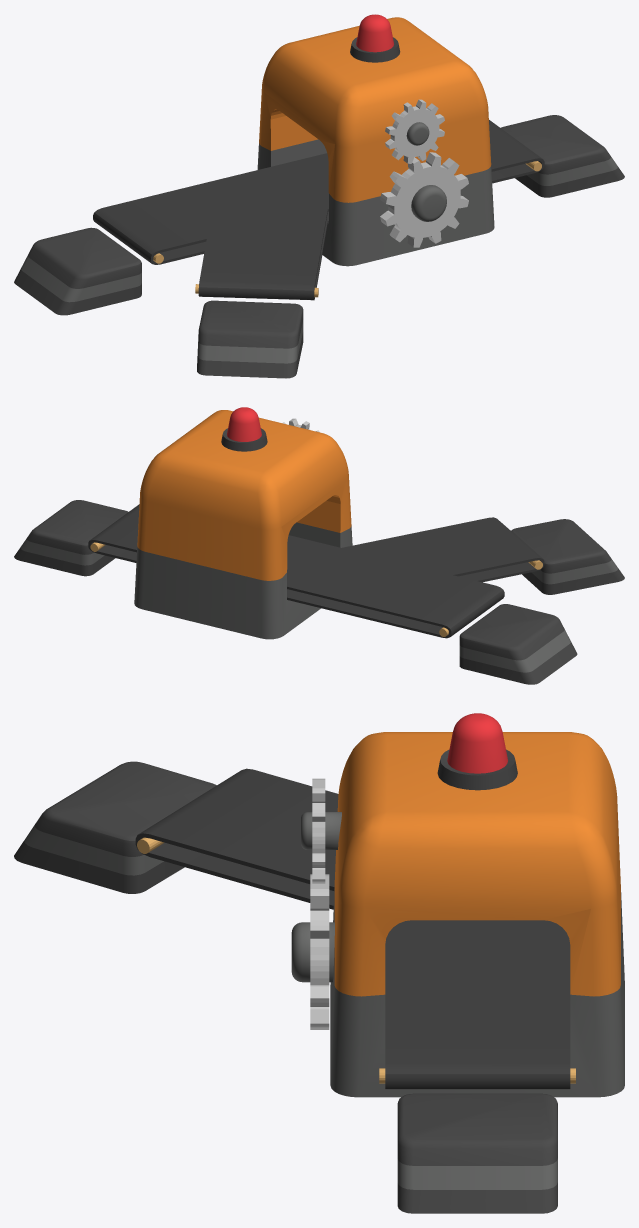
Rendered from makina2.fbx.
3 renders of one model, top to bottom at view 1: azimuth 30°, elevation 25°; view 2: azimuth 150°, elevation 25°; view 3: azimuth 270°, elevation 25°, orthographic. The views are drawn at different scales.
Visible parts, largest first — view 1: govde.003, palet.012, stack.010, palet.002, stack.002, cark2, cark1, lamba.001; view 2: govde.003, palet.012, stack.010, palet.002, stack.002, lamba.001; view 3: govde.003, palet.012, stack.010, palet.002, stack.002, lamba.001, cark2, cark1.
Boxes of the visible parts, <box> form: govde.003: <box>257,17,494,266</box>; palet.012: <box>93,120,544,264</box>; stack.010: <box>14,115,624,315</box>; palet.002: <box>195,209,327,300</box>; stack.002: <box>197,300,303,378</box>; cark2: <box>380,152,468,247</box>; cark1: <box>385,99,444,163</box>; lamba.001: <box>350,14,400,62</box>; govde.003: <box>134,410,352,639</box>; palet.012: <box>88,504,504,638</box>; stack.010: <box>14,500,577,684</box>; palet.002: <box>342,517,544,582</box>; stack.002: <box>511,519,624,594</box>; lamba.001: <box>221,407,267,451</box>; govde.003: <box>330,732,624,1097</box>; palet.012: <box>379,920,575,1089</box>; stack.010: <box>397,1093,557,1213</box>; palet.002: <box>135,768,338,909</box>; stack.002: <box>14,761,216,893</box>; lamba.001: <box>437,713,517,790</box>; cark2: <box>291,874,334,1029</box>; cark1: <box>301,778,341,883</box>.
Size of the model in its own units: 761 by 254 by 443.
